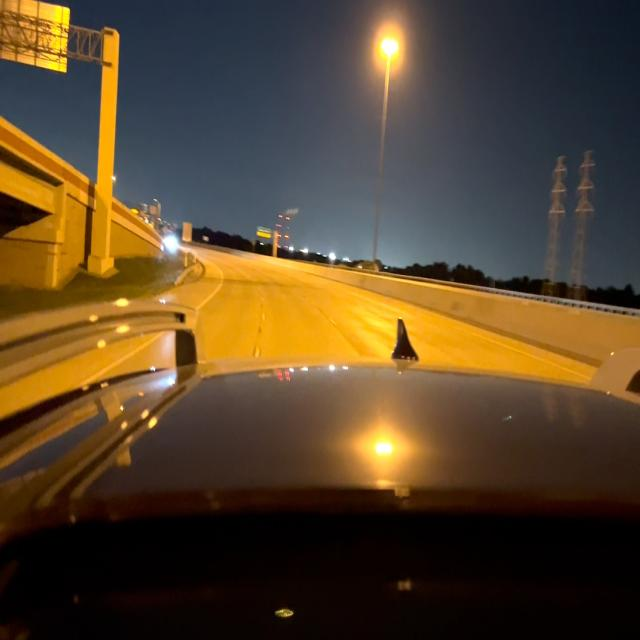back-of-sign: (0, 0, 73, 76)
